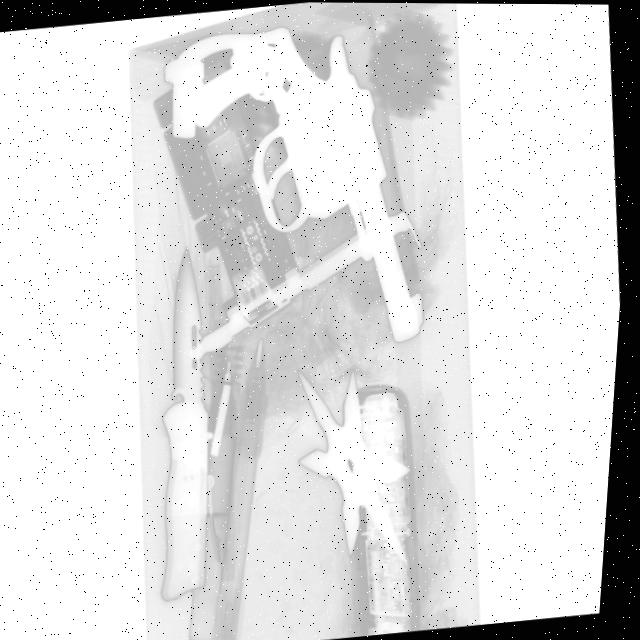knife: (125, 250, 250, 605)
pistol: (148, 9, 446, 365)
